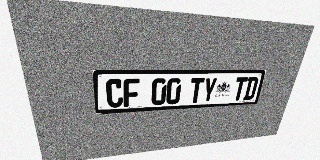0: (151, 78, 167, 105), (166, 78, 182, 105)
C: (106, 79, 123, 108)
D: (243, 77, 259, 100)
F: (123, 78, 140, 107)
T: (188, 78, 205, 103), (232, 77, 248, 101)
Y: (201, 77, 218, 102)
